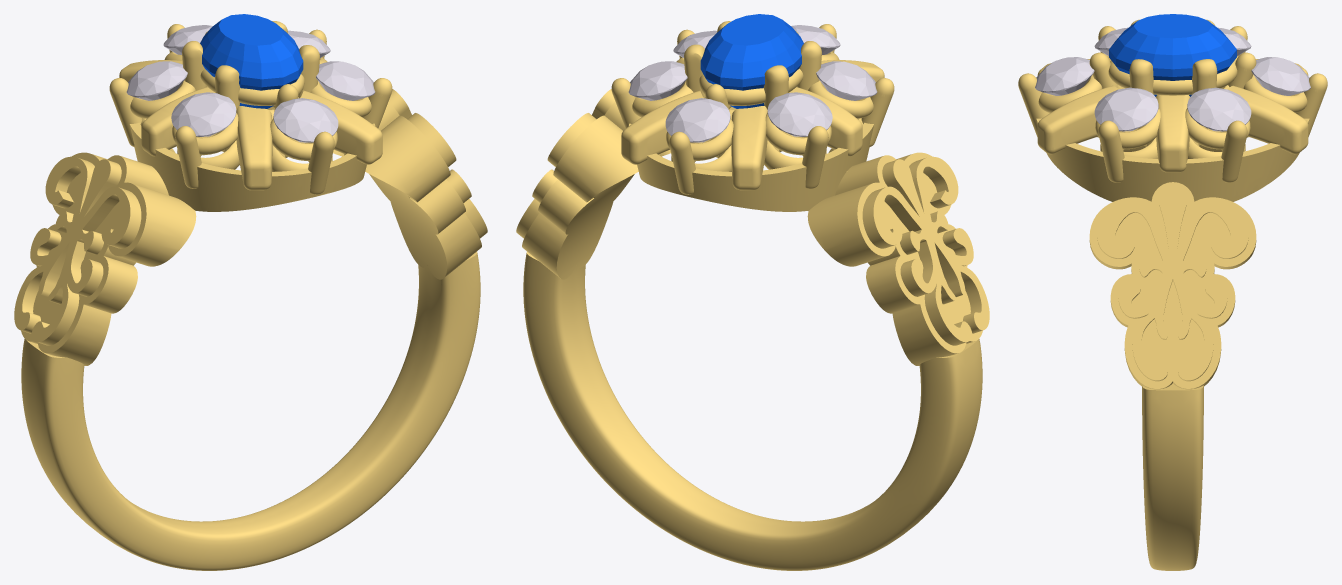
The model's file is JillDv2.glb.
3 views of the same model, side by side, from view 1: azimuth 30°, elevation 25°; view 2: azimuth 150°, elevation 25°; view 3: azimuth 270°, elevation 25° (orthographic).
Parts seen in each view (by area): view 1: v2 jillian YG for 3d model, Jillian sapphire for 3d model, Jillian dia for 3d model, Jillian dia for 3d model.005, Jillian dia for 3d model.002, Jillian dia for 3d model.004, Jillian dia for 3d model.001; view 2: v2 jillian YG for 3d model, Jillian sapphire for 3d model, Jillian dia for 3d model.001, Jillian dia for 3d model.002, Jillian dia for 3d model.005, Jillian dia for 3d model.003, Jillian dia for 3d model; view 3: v2 jillian YG for 3d model, Jillian sapphire for 3d model, Jillian dia for 3d model.004, Jillian dia for 3d model.003, Jillian dia for 3d model, Jillian dia for 3d model.001.
Part boxes in pixels (bbox=[...]): v2 jillian YG for 3d model: bbox=[14, 21, 487, 570]; Jillian sapphire for 3d model: bbox=[200, 14, 303, 108]; Jillian dia for 3d model: bbox=[273, 98, 338, 142]; Jillian dia for 3d model.005: bbox=[171, 92, 236, 136]; Jillian dia for 3d model.002: bbox=[126, 61, 187, 100]; Jillian dia for 3d model.004: bbox=[316, 61, 375, 100]; Jillian dia for 3d model.001: bbox=[163, 25, 212, 54]; v2 jillian YG for 3d model: bbox=[516, 21, 989, 570]; Jillian sapphire for 3d model: bbox=[700, 14, 803, 108]; Jillian dia for 3d model.001: bbox=[665, 98, 730, 142]; Jillian dia for 3d model.002: bbox=[767, 92, 832, 136]; Jillian dia for 3d model.005: bbox=[816, 61, 877, 100]; Jillian dia for 3d model.003: bbox=[628, 61, 687, 100]; Jillian dia for 3d model: bbox=[791, 25, 840, 54]; v2 jillian YG for 3d model: bbox=[1018, 19, 1327, 570]; Jillian sapphire for 3d model: bbox=[1109, 14, 1236, 96]; Jillian dia for 3d model.004: bbox=[1094, 87, 1158, 131]; Jillian dia for 3d model.003: bbox=[1187, 87, 1251, 131]; Jillian dia for 3d model: bbox=[1035, 57, 1094, 95]; Jillian dia for 3d model.001: bbox=[1251, 57, 1310, 95].
Size of the model in its own units: 19.74 by 22.27 by 11.99.
